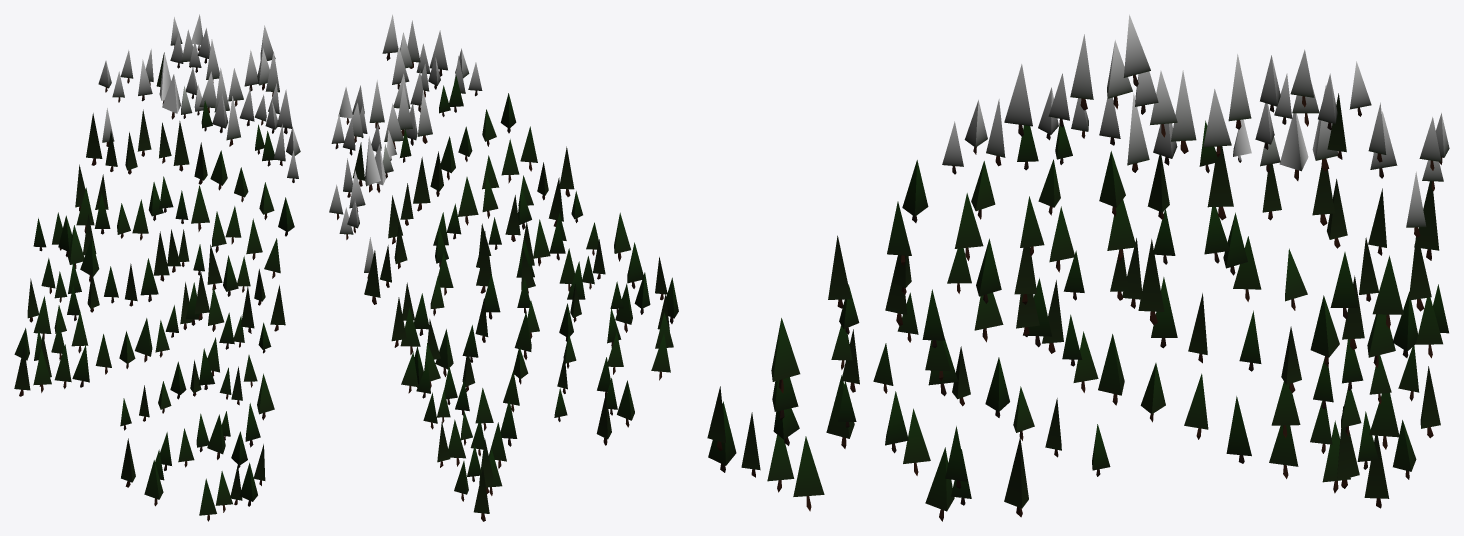
Rendered from c_trees_sierra_side.fbx.
3 views of the same model, side by side, from view 1: azimuth 30°, elevation 25°; view 2: azimuth 150°, elevation 25°; view 3: azimuth 270°, elevation 25° (orthographic). The views are drawn at different scales.
Parts seen in each view (by area): view 1: c_trees_sierra_side; view 2: c_trees_sierra_side; view 3: c_trees_sierra_side.
Part boxes in pixels (x1,y1,x2,y2): c_trees_sierra_side: (14,14,300,521); c_trees_sierra_side: (329,14,678,521); c_trees_sierra_side: (707,14,1449,521).
Bounding box in the file's own units: 52.09 × 107 × 113.
